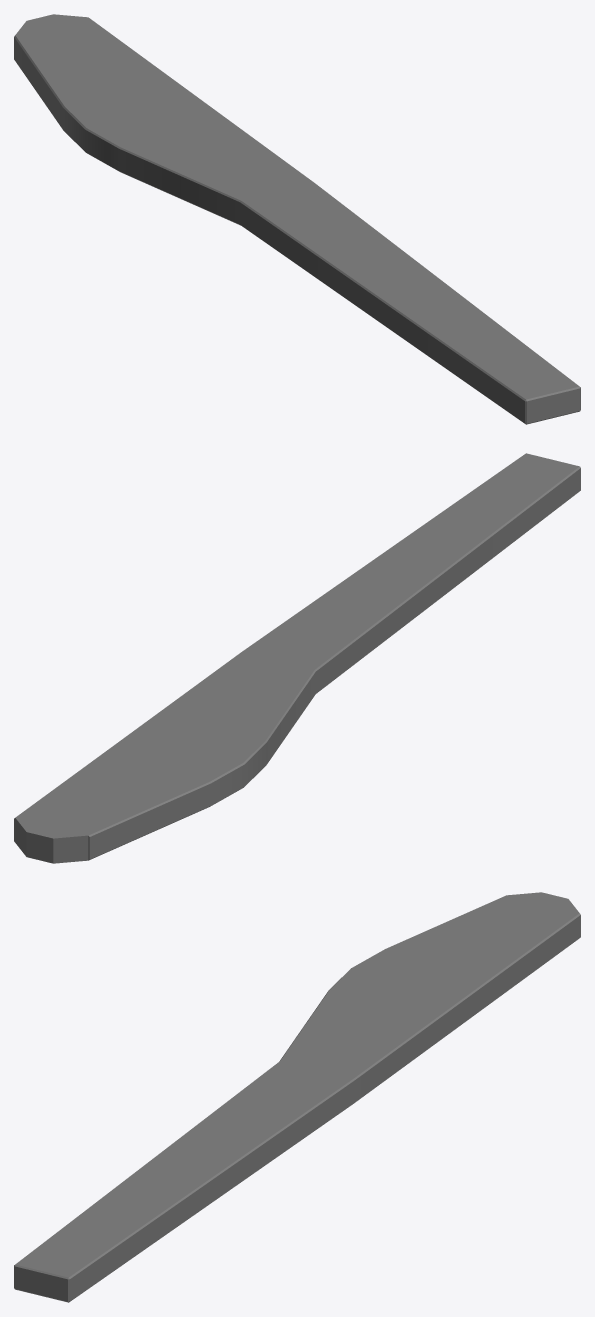
The model's file is knife_text (1).fbx.
The picture shows the model from 3 angles, top to bottom: view 1: azimuth 30°, elevation 25°; view 2: azimuth 150°, elevation 25°; view 3: azimuth 330°, elevation 25°; orthographic projection.
Visible parts, largest first — view 1: couteau; view 2: couteau; view 3: couteau.
Part boxes in pixels (x1,y1,x2,y2): couteau: (14,14,580,424); couteau: (14,453,580,863); couteau: (14,892,580,1302).
Bounding box in the file's own units: 2.75 × 0.5626 × 20.87.
Materials: 1 (1 with a texture image).
